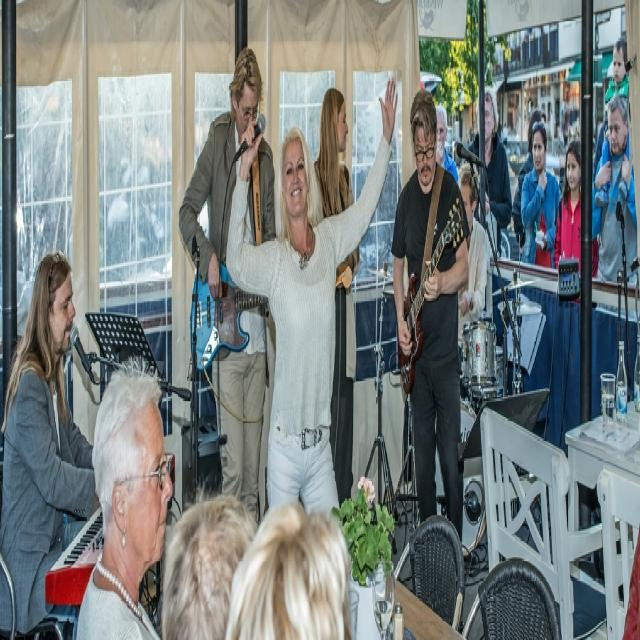Glasses: (122, 446, 174, 501), (414, 130, 438, 171), (532, 114, 547, 142)
